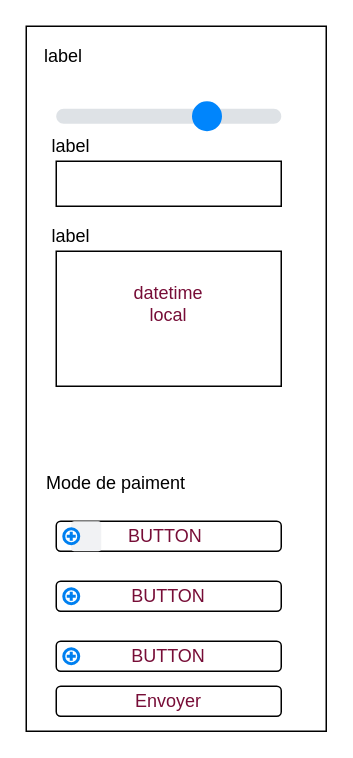
This 353x758 diagram has some shape labels left out. The shapes that lost their labels are listed below. From the top down, each one's centre as x and y in pixels, then its label:
At [168,115]: "range".
At [168,183]: "number".
